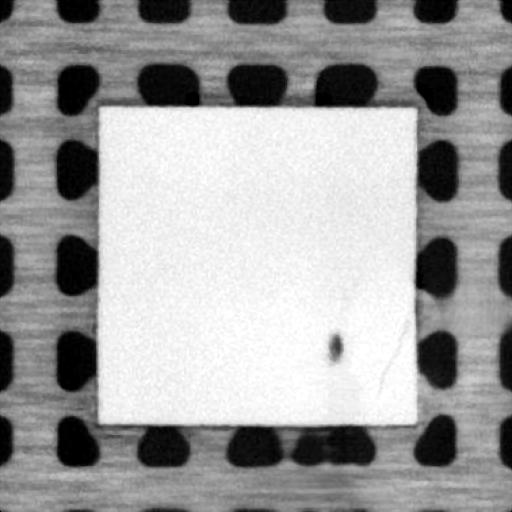DIE_INK: (321, 328, 345, 366)
